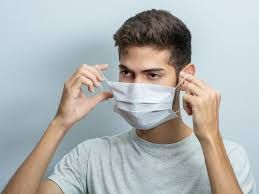with-mask: (97, 15, 199, 141)
